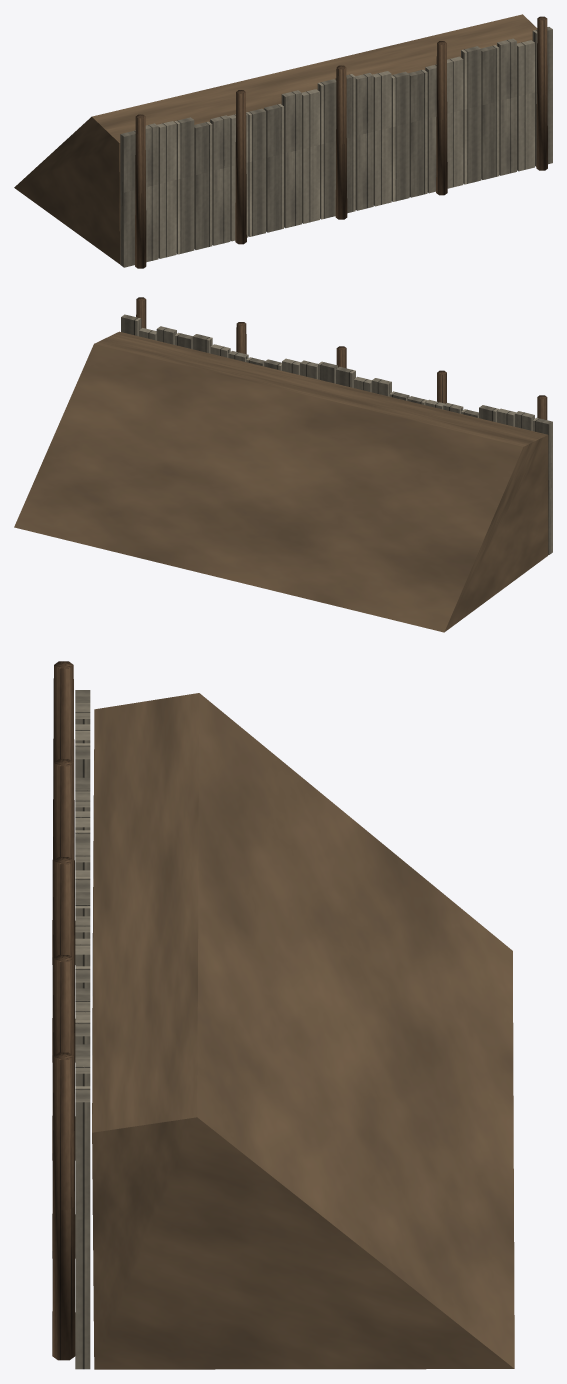
File: Earthwork_Plank_1.gltf
3 renders of one model, top to bottom at view 1: azimuth 30°, elevation 25°; view 2: azimuth 150°, elevation 25°; view 3: azimuth 270°, elevation 25°, orthographic. The views are drawn at different scales.
Visible parts, largest first — view 1: Earthwork_Plank_1; view 2: Earthwork_Plank_1; view 3: Earthwork_Plank_1.
Boxes of the visible parts, left/top/right/bottom form: Earthwork_Plank_1: left=14, top=14, right=552, bottom=268; Earthwork_Plank_1: left=14, top=297, right=552, bottom=632; Earthwork_Plank_1: left=52, top=661, right=514, bottom=1369.
Bounding box in the file's own units: 6.02 × 2 × 2.8.
Materials: 3 (3 with a texture image).
